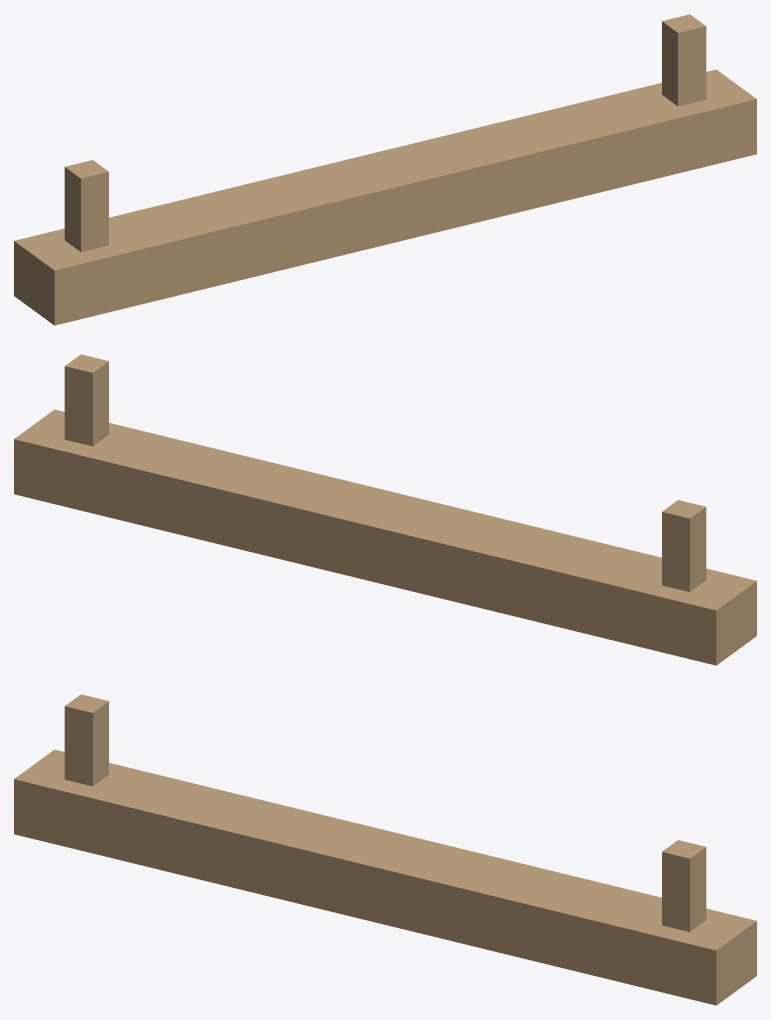
Rendered from prop-netting-loom-bar-nm1.fbx.
3 views of the same model, one above another, from view 1: azimuth 30°, elevation 25°; view 2: azimuth 150°, elevation 25°; view 3: azimuth 330°, elevation 25° (orthographic).
Parts seen in each view (by area): view 1: prop-netting-loom-bar-nm1; view 2: prop-netting-loom-bar-nm1; view 3: prop-netting-loom-bar-nm1.
Boxes of the visible parts, bbox=[...] form: prop-netting-loom-bar-nm1: bbox=[14, 14, 756, 325]; prop-netting-loom-bar-nm1: bbox=[14, 354, 756, 665]; prop-netting-loom-bar-nm1: bbox=[14, 694, 756, 1005].
Size of the model in its own units: 40 by 7 by 4.
